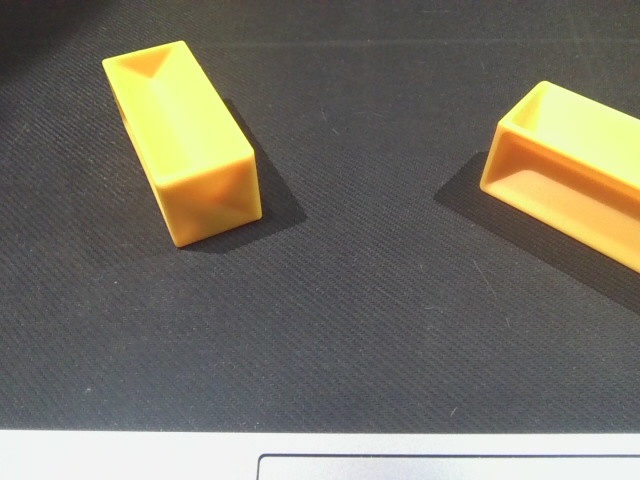YellowSample: (96, 38, 273, 249), (475, 73, 640, 273)
